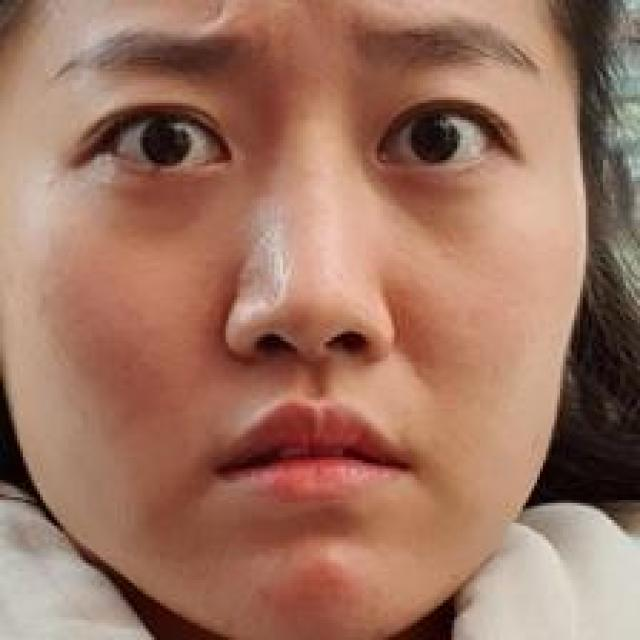Fear: (54, 9, 556, 538)
